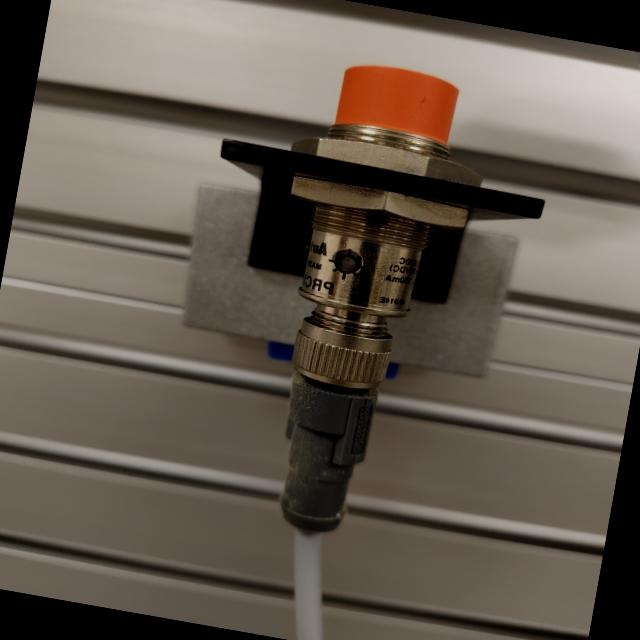inductive sensor: (127, 27, 569, 572)
